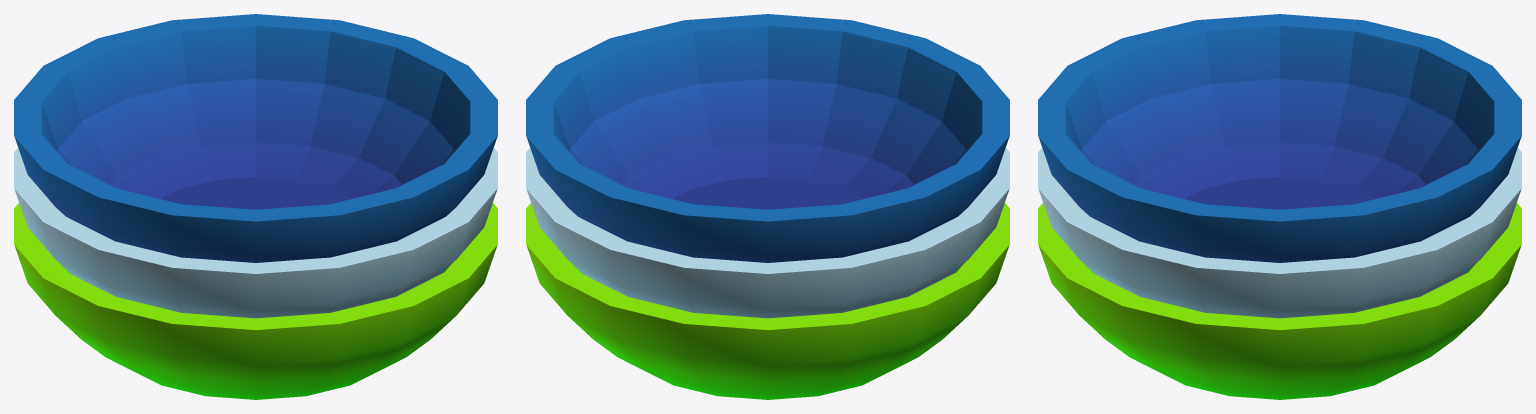
The model's file is Bowls.FBX.
3 renders of one model, left to right at view 1: azimuth 30°, elevation 25°; view 2: azimuth 150°, elevation 25°; view 3: azimuth 270°, elevation 25°, orthographic.
Parts seen in each view (by area): view 1: Bowl002, Bowl, Bowl001; view 2: Bowl002, Bowl, Bowl001; view 3: Bowl002, Bowl, Bowl001.
Part boxes in pixels (bbox=[...]): Bowl002: bbox=[14, 14, 497, 262]; Bowl: bbox=[14, 203, 497, 399]; Bowl001: bbox=[14, 148, 497, 318]; Bowl002: bbox=[526, 14, 1009, 262]; Bowl: bbox=[526, 203, 1009, 399]; Bowl001: bbox=[526, 148, 1009, 318]; Bowl002: bbox=[1038, 14, 1521, 262]; Bowl: bbox=[1038, 203, 1521, 399]; Bowl001: bbox=[1038, 148, 1521, 318].
Size of the model in its own units: 11.04 by 5.8 by 10.88.
Materials: 1 (1 with a texture image).
